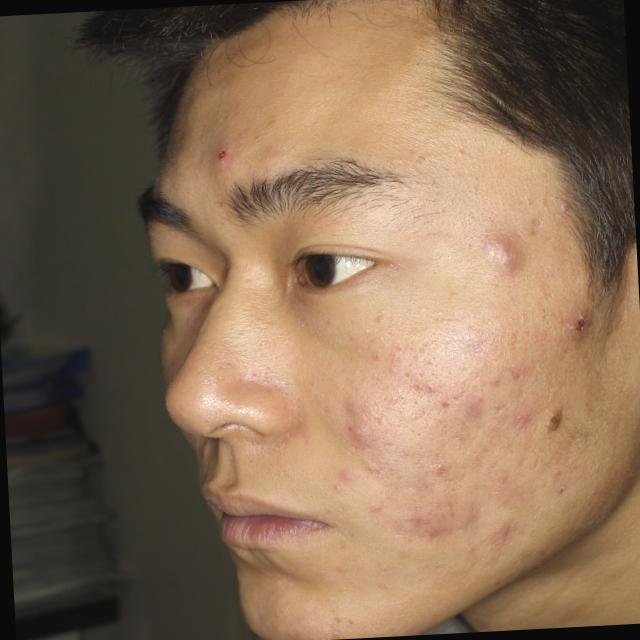blackhead: (469, 245, 472, 248), (348, 428, 352, 430), (424, 521, 428, 523), (274, 385, 276, 387), (238, 380, 240, 382), (423, 158, 425, 160), (558, 269, 560, 271), (543, 310, 545, 312), (376, 356, 378, 358), (238, 378, 240, 379)
nodule: (482, 240, 520, 273), (354, 426, 371, 442)
